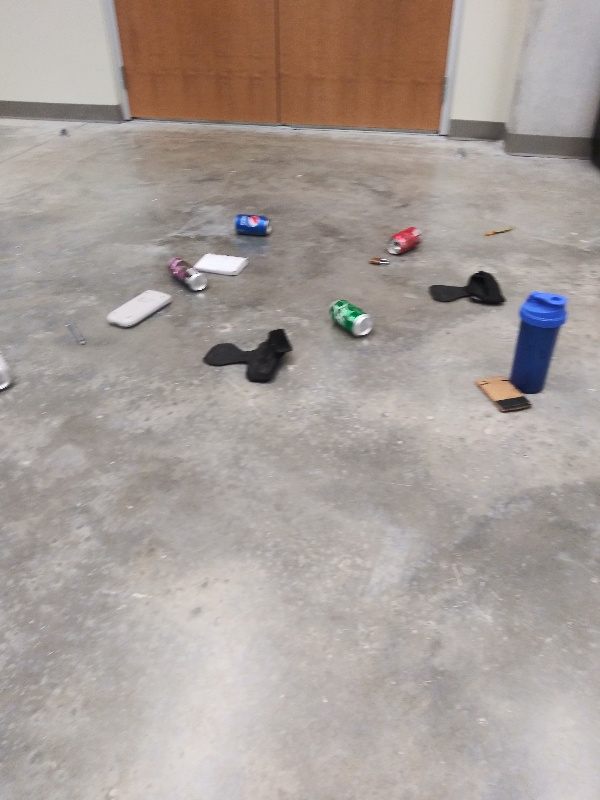can: (158, 255, 211, 295), (326, 297, 375, 339), (233, 210, 277, 239), (384, 226, 424, 257), (1, 348, 12, 392)
